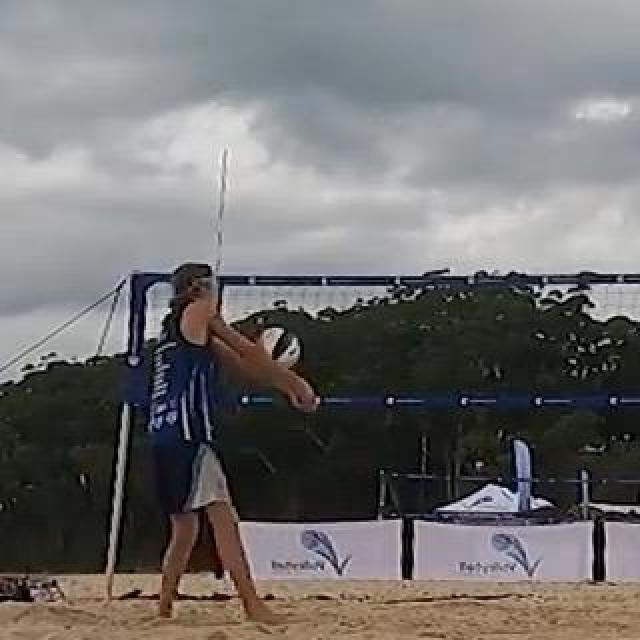volleyball: (257, 328, 299, 370)
